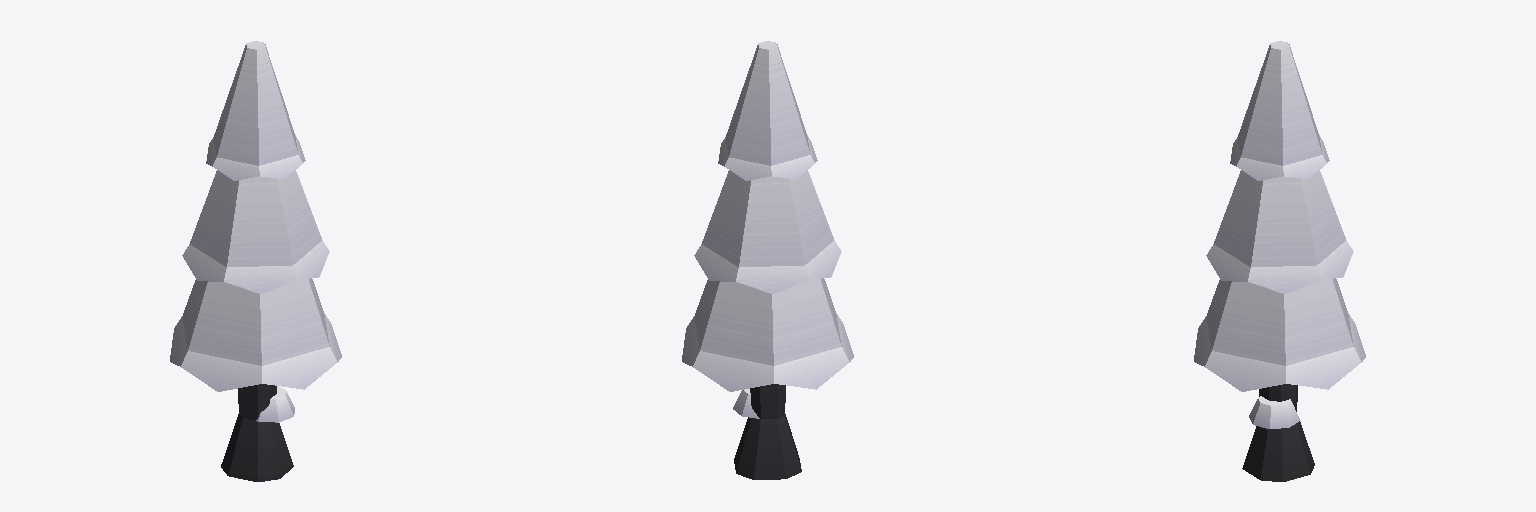
3 renders of one model, left to right at view 1: azimuth 30°, elevation 25°; view 2: azimuth 150°, elevation 25°; view 3: azimuth 270°, elevation 25°, orthographic.
Visible parts, largest first — view 1: tree.024; view 2: tree.024; view 3: tree.024.
Part boxes in pixels (x1,y1,x2,y2): tree.024: (170,41,341,481); tree.024: (682,41,853,479); tree.024: (1194,41,1365,481).
Bounding box in the file's own units: 1.36 × 3.47 × 1.29.
1 materials, 1 textured.